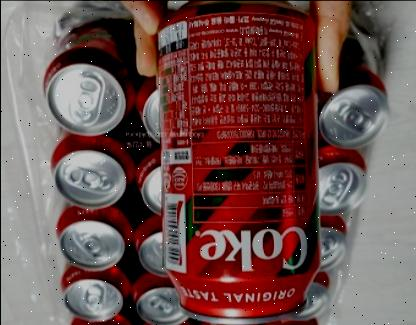Can: (154, 1, 322, 325)
